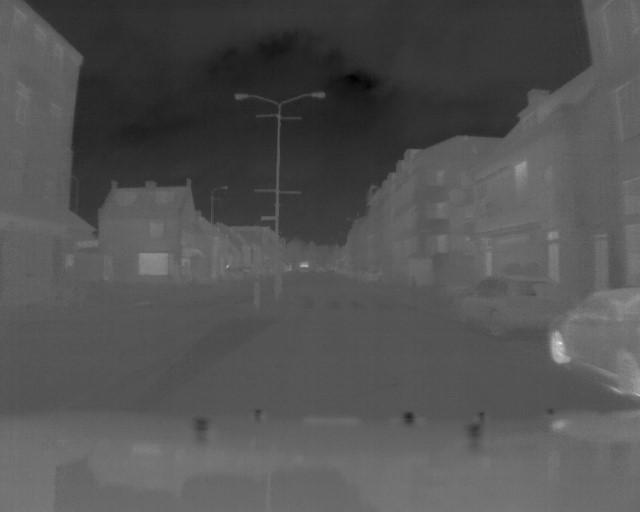car: (546, 279, 640, 394), (451, 266, 573, 343)
